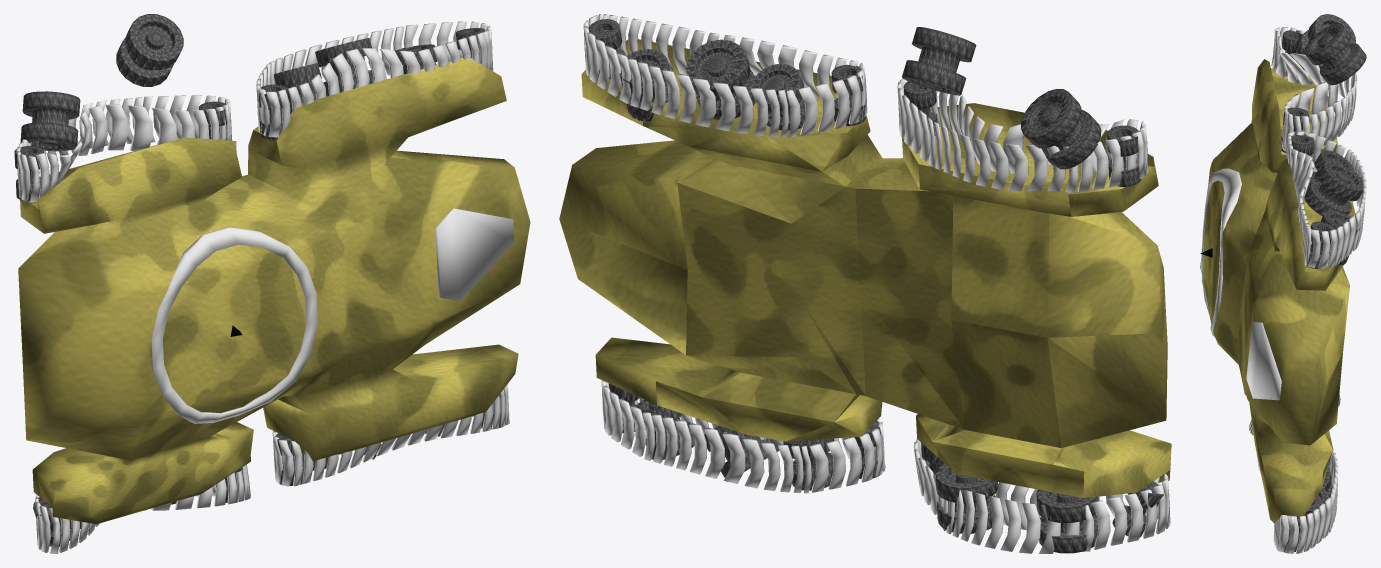
Rendered from Behemoth_dead.fbx.
3 views of the same model, side by side, from view 1: azimuth 30°, elevation 25°; view 2: azimuth 150°, elevation 25°; view 3: azimuth 270°, elevation 25° (orthographic). The views are drawn at different scales.
Visible parts, largest first — view 1: Body0, Color_01_-_Default, Wheels_01_-_Default, Color1_01_-_Default; view 2: Body0, Color_01_-_Default, Wheels_01_-_Default; view 3: Body0, Color_01_-_Default, Wheels_01_-_Default, Color1_01_-_Default.
Boxes of the visible parts, x1=… form: Body0: x1=18, y1=57, x2=530, y2=524; Color_01_-_Default: x1=16, y1=21, x2=509, y2=553; Wheels_01_-_Default: x1=14, y1=14, x2=502, y2=546; Color1_01_-_Default: x1=151, y1=208, x2=514, y2=423; Body0: x1=559, y1=39, x2=1171, y2=497; Color_01_-_Default: x1=583, y1=14, x2=1170, y2=553; Wheels_01_-_Default: x1=588, y1=19, x2=1163, y2=553; Body0: x1=1200, y1=59, x2=1354, y2=523; Color_01_-_Default: x1=1248, y1=27, x2=1366, y2=553; Wheels_01_-_Default: x1=1281, y1=14, x2=1366, y2=551; Color1_01_-_Default: x1=1201, y1=168, x2=1281, y2=400.
Bounding box in the file's own units: 116 × 100 × 37.63.
Materials: 3 (2 with a texture image).
